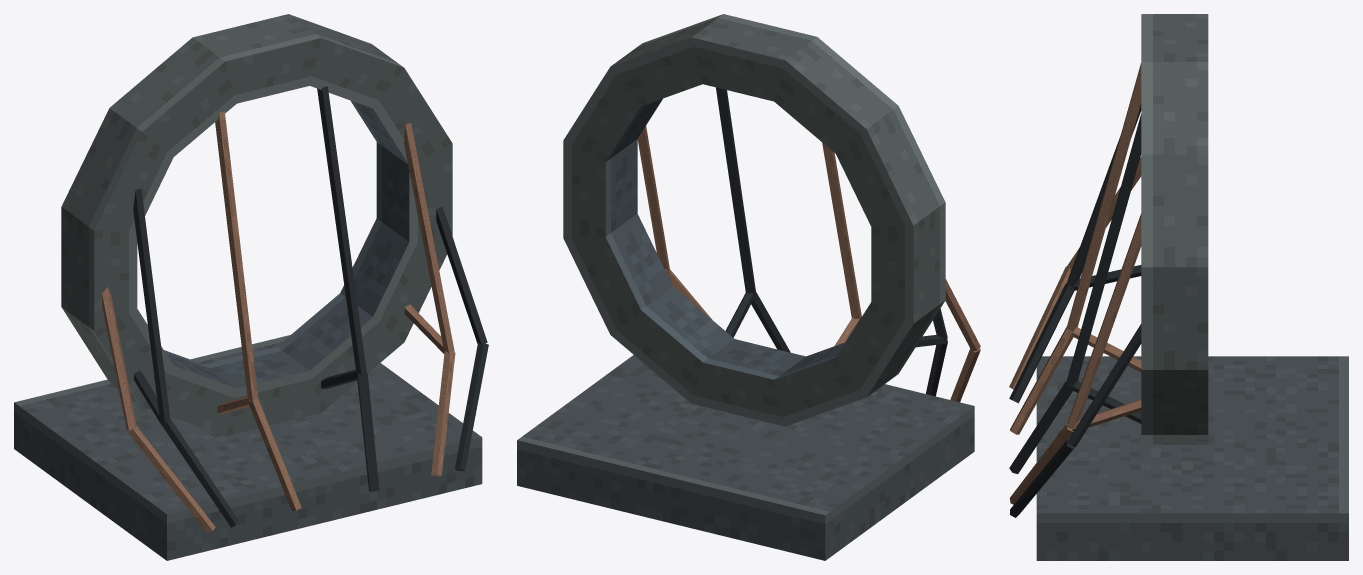
File: f_exodii_portal_enclosure.glb
3 views of the same model, side by side, from view 1: azimuth 30°, elevation 25°; view 2: azimuth 150°, elevation 25°; view 3: azimuth 270°, elevation 25° (orthographic). The views are drawn at different scales.
Parts seen in each view (by area): view 1: block_portal-ring-cradle, block_attached-power-cable-1 (×7), block_attached-power-cable-2 (×6), block_upright-cabled-portal-ring-outer-4, block_upright-cabled-portal-ring-outer-3, block_upright-cabled-portal-ring-far-rim-2, block_upright-cabled-portal-ring-far-rim-1, block_upright-cabled-portal-ring-far-rim-3, block_upright-cabled-portal-ring-far-rim-5, block_upright-cabled-portal-ring-far-rim-4, block_upright-cabled-portal-ring-far-rim-0, block_upright-cabled-portal-ring-outer-5 (+15 smaller); view 2: block_portal-ring-cradle, block_attached-power-cable-1 (×4), block_upright-cabled-portal-ring-outer-4, block_upright-cabled-portal-ring-outer-3, block_upright-cabled-portal-ring-near-rim-11, block_upright-cabled-portal-ring-near-rim-5, block_upright-cabled-portal-ring-near-rim-8, block_upright-cabled-portal-ring-near-rim-2, block_upright-cabled-portal-ring-near-rim-4, block_upright-cabled-portal-ring-near-rim-10, block_upright-cabled-portal-ring-near-rim-1, block_upright-cabled-portal-ring-near-rim-7 (+15 smaller); view 3: block_portal-ring-cradle, block_attached-power-cable-1 (×8), block_upright-cabled-portal-ring-outer-0, block_attached-power-cable-2 (×7), block_upright-cabled-portal-ring-outer-11, block_upright-cabled-portal-ring-outer-1, block_upright-cabled-portal-ring-outer-10, block_upright-cabled-portal-ring-outer-2, block_upright-cabled-portal-ring-outer-9.
Part boxes in pixels (x1=…): block_portal-ring-cradle: x1=14, y1=335, x2=482, y2=560; block_attached-power-cable-1 (×7): x1=102, y1=86, x2=487, y2=430; block_attached-power-cable-2 (×6): x1=128, y1=342, x2=488, y2=533; block_upright-cabled-portal-ring-outer-4: x1=61, y1=108, x2=141, y2=230; block_upright-cabled-portal-ring-outer-3: x1=110, y1=37, x2=224, y2=131; block_upright-cabled-portal-ring-far-rim-2: x1=225, y1=38, x2=321, y2=103; block_upright-cabled-portal-ring-far-rim-1: x1=310, y1=38, x2=403, y2=108; block_upright-cabled-portal-ring-far-rim-3: x1=142, y1=62, x2=236, y2=156; block_upright-cabled-portal-ring-far-rim-5: x1=94, y1=230, x2=137, y2=330; block_upright-cabled-portal-ring-far-rim-4: x1=94, y1=132, x2=173, y2=231; block_upright-cabled-portal-ring-far-rim-0: x1=373, y1=68, x2=451, y2=162; block_upright-cabled-portal-ring-outer-5: x1=61, y1=207, x2=94, y2=330; block_portal-ring-cradle: x1=517, y1=355, x2=974, y2=560; block_attached-power-cable-1 (×4): x1=637, y1=87, x2=980, y2=350; block_upright-cabled-portal-ring-outer-4: x1=866, y1=106, x2=945, y2=225; block_upright-cabled-portal-ring-outer-3: x1=785, y1=37, x2=898, y2=128; block_upright-cabled-portal-ring-near-rim-11: x1=563, y1=140, x2=605, y2=238; block_upright-cabled-portal-ring-near-rim-5: x1=871, y1=225, x2=913, y2=323; block_upright-cabled-portal-ring-near-rim-8: x1=691, y1=362, x2=785, y2=426; block_upright-cabled-portal-ring-near-rim-2: x1=692, y1=37, x2=785, y2=101; block_upright-cabled-portal-ring-near-rim-4: x1=836, y1=129, x2=913, y2=227; block_upright-cabled-portal-ring-near-rim-10: x1=563, y1=237, x2=640, y2=334; block_upright-cabled-portal-ring-near-rim-1: x1=610, y1=37, x2=702, y2=106; block_upright-cabled-portal-ring-near-rim-7: x1=774, y1=357, x2=866, y2=426; block_portal-ring-cradle: x1=1036, y1=356, x2=1348, y2=560; block_attached-power-cable-1 (×8): x1=1066, y1=63, x2=1141, y2=446; block_upright-cabled-portal-ring-outer-0: x1=1141, y1=154, x2=1208, y2=267; block_attached-power-cable-2 (×7): x1=1009, y1=266, x2=1074, y2=517; block_upright-cabled-portal-ring-outer-11: x1=1141, y1=267, x2=1208, y2=369; block_upright-cabled-portal-ring-outer-1: x1=1141, y1=62, x2=1208, y2=154; block_upright-cabled-portal-ring-outer-10: x1=1141, y1=370, x2=1208, y2=434; block_upright-cabled-portal-ring-outer-2: x1=1141, y1=14, x2=1208, y2=61; block_upright-cabled-portal-ring-outer-9: x1=1141, y1=435, x2=1208, y2=444.
Size of the model in its own units: 0.8572 by 0.989 by 0.6853.
1 material, 1 textured.
